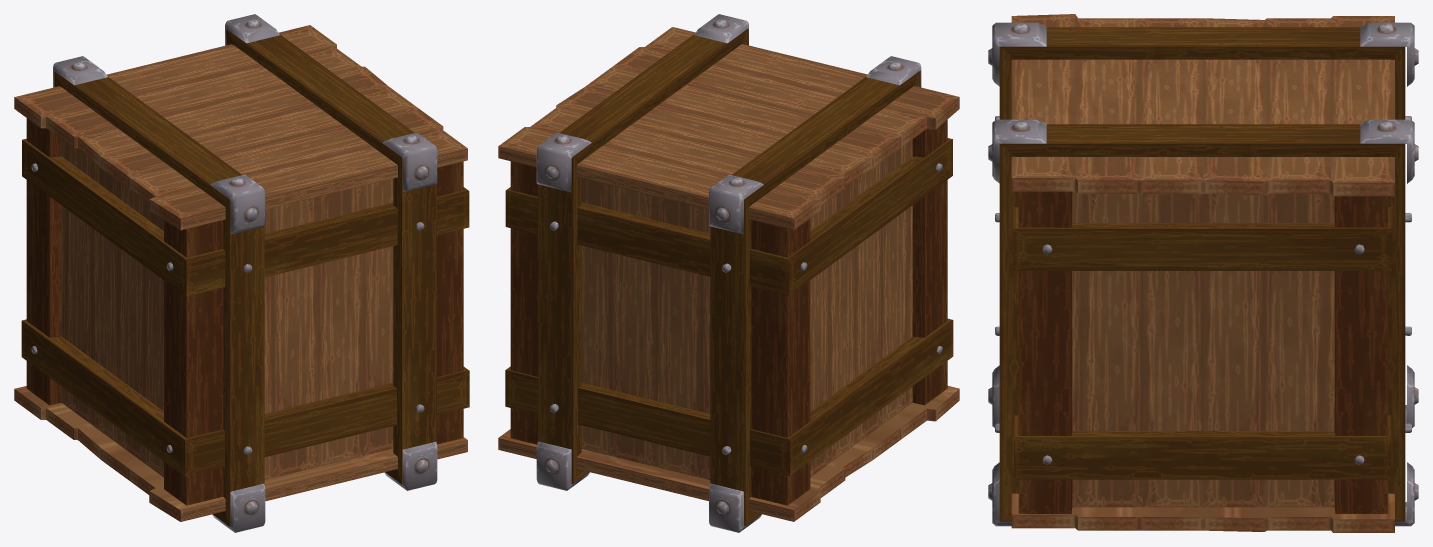
File: prop_crate.glb
3 renders of one model, left to right at view 1: azimuth 30°, elevation 25°; view 2: azimuth 150°, elevation 25°; view 3: azimuth 270°, elevation 25°, orthographic. The views are drawn at different scales.
Parts seen in each view (by area): view 1: Crate_Wooden; view 2: Crate_Wooden; view 3: Crate_Wooden.
Part boxes in pixels (x1=…): Crate_Wooden: x1=14, y1=14, x2=469, y2=532; Crate_Wooden: x1=498, y1=14, x2=959, y2=532; Crate_Wooden: x1=988, y1=14, x2=1418, y2=532.
Size of the model in its own units: 0.8423 by 0.9309 by 0.9083.
2 materials, 2 textured.
